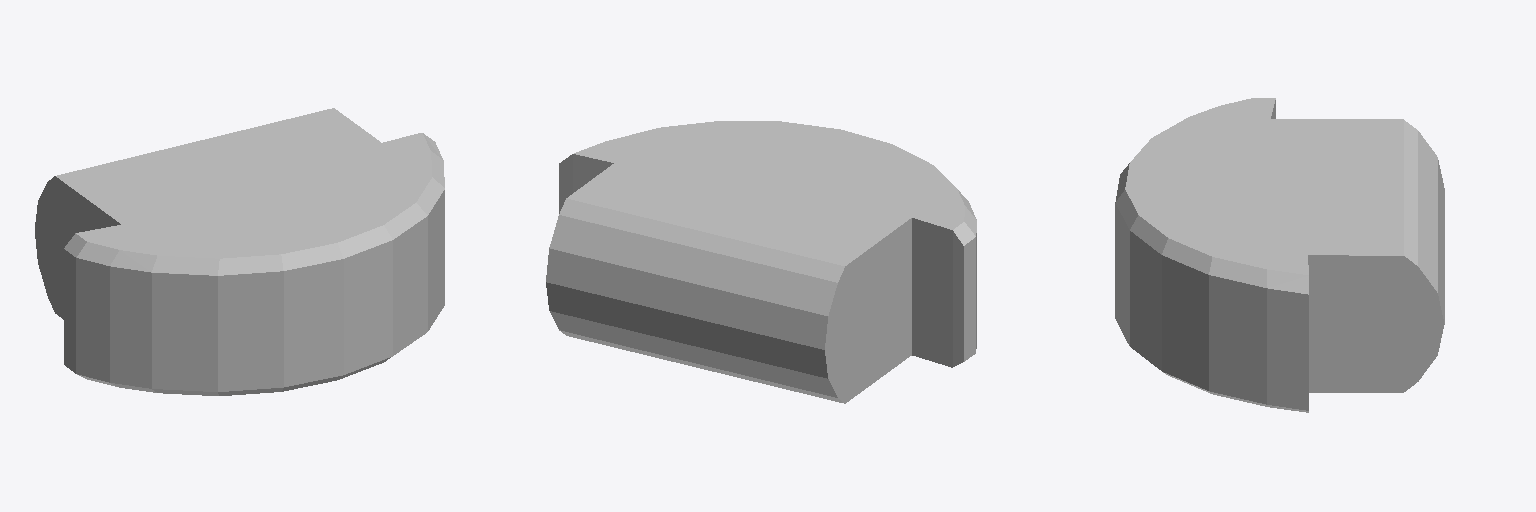
The model's file is RAnklePitch.obj.
3 renders of one model, left to right at view 1: azimuth 30°, elevation 25°; view 2: azimuth 150°, elevation 25°; view 3: azimuth 270°, elevation 25°, orthographic.
Visible parts, largest first — view 1: root; view 2: root; view 3: root.
Part boxes in pixels (left/top/right/bottom): root: left=35, top=108, right=444, bottom=395; root: left=546, top=121, right=976, bottom=403; root: left=1115, top=98, right=1444, bottom=412.
Bounding box in the file's own units: 84.13 × 28.52 × 61.82.